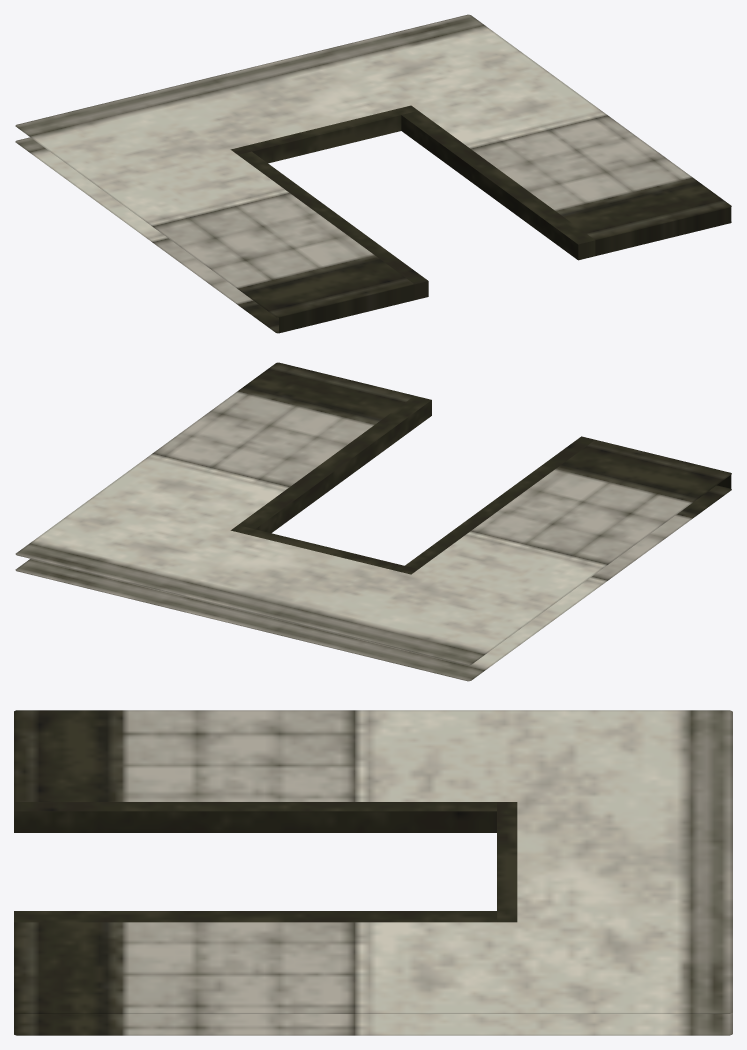
The model's file is SM_EC_House_Wall_DoorWay_3x3_3.fbx.
3 views of the same model, one above another, from view 1: azimuth 30°, elevation 25°; view 2: azimuth 150°, elevation 25°; view 3: azimuth 270°, elevation 25° (orthographic). The views are drawn at different scales.
Parts seen in each view (by area): view 1: SM_EC_House_Wall_DoorWay_3x3_3; view 2: SM_EC_House_Wall_DoorWay_3x3_3; view 3: SM_EC_House_Wall_DoorWay_3x3_3.
Part boxes in pixels (bbox=[...]): SM_EC_House_Wall_DoorWay_3x3_3: bbox=[15, 14, 731, 333]; SM_EC_House_Wall_DoorWay_3x3_3: bbox=[15, 362, 731, 681]; SM_EC_House_Wall_DoorWay_3x3_3: bbox=[14, 710, 732, 1035].
Size of the model in its own units: 3 by 3 by 0.1.
